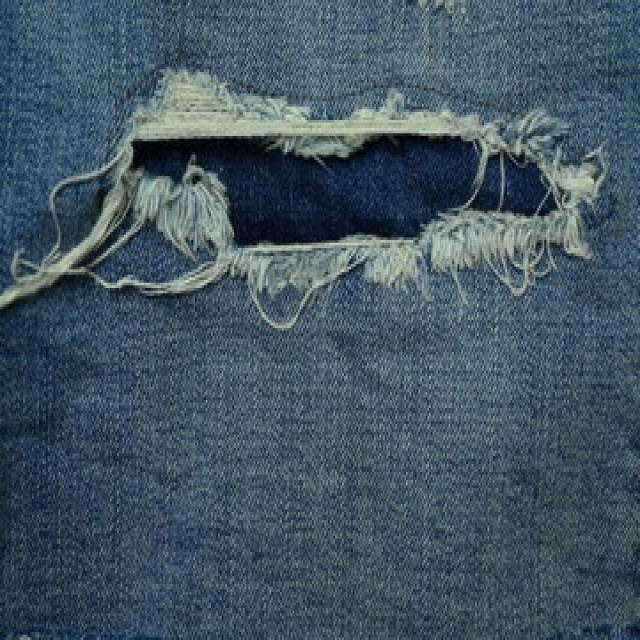Hole: (0, 70, 609, 330)
